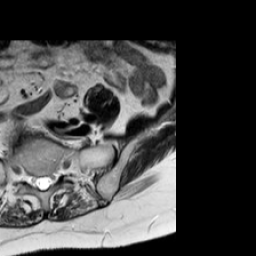CCS_stenosis: (40, 167, 46, 197)
LFS_normal: (54, 155, 64, 187)
LLS_normal: (46, 165, 54, 193)
RFS_normal: (25, 161, 32, 192)
RLS_normal: (32, 166, 40, 197)
